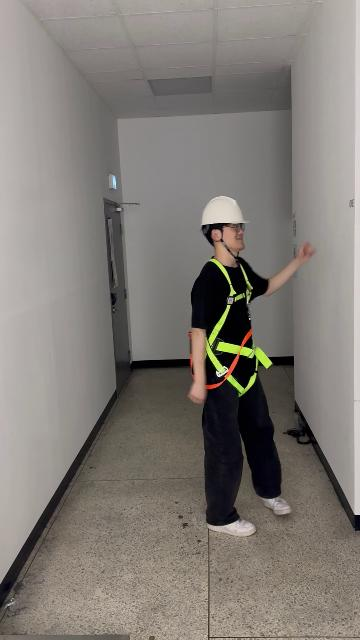helmet_worn: (199, 195, 250, 227)
shoe_not_worn: (207, 517, 256, 537), (258, 496, 292, 516)
vest_worn: (193, 263, 272, 394)
